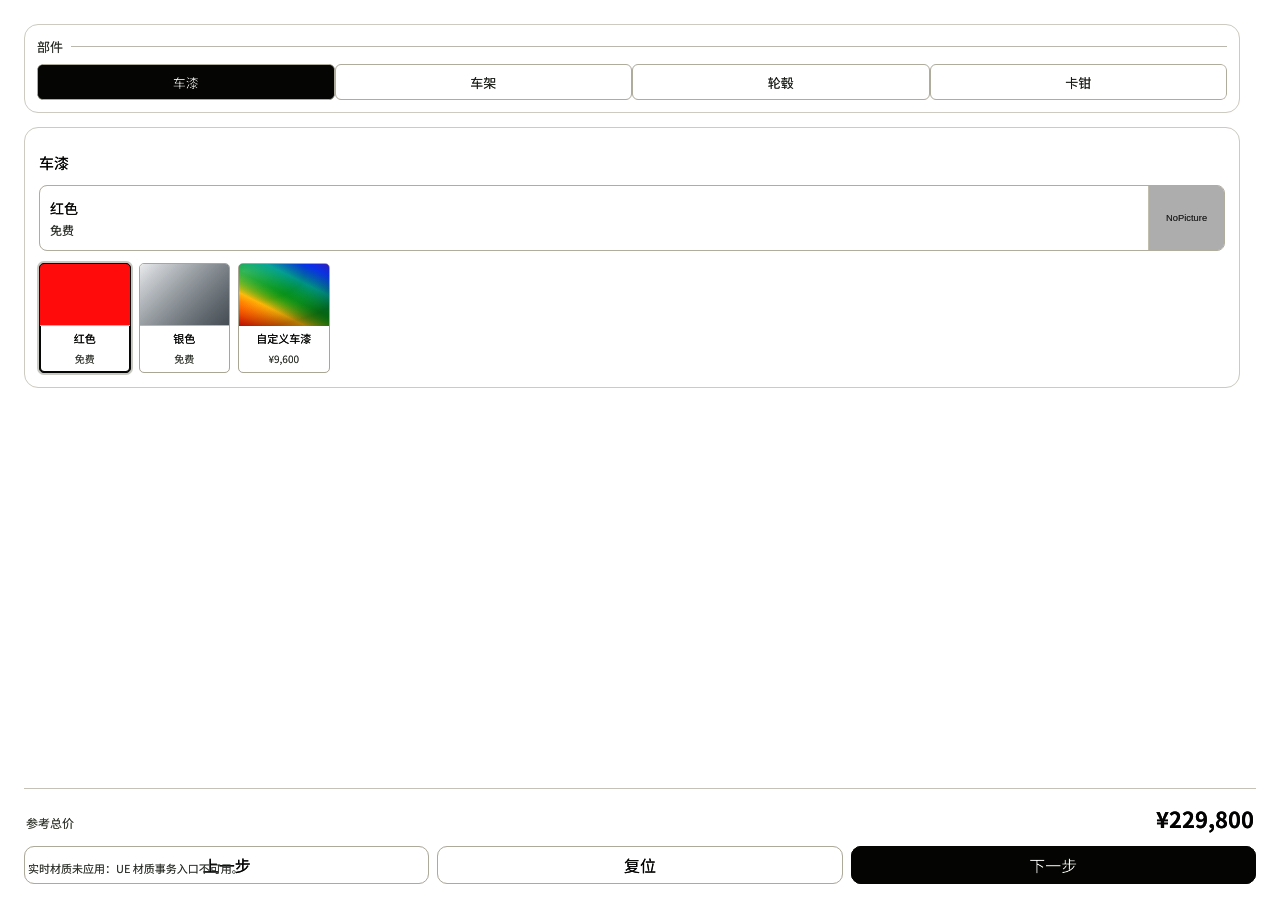
Test: App v2 › embedded 上下步不回写 category，按子项顺序且每次镜头变化只联动一次
Click the button "下一步": [1053, 865] box [851,846,1256,884]
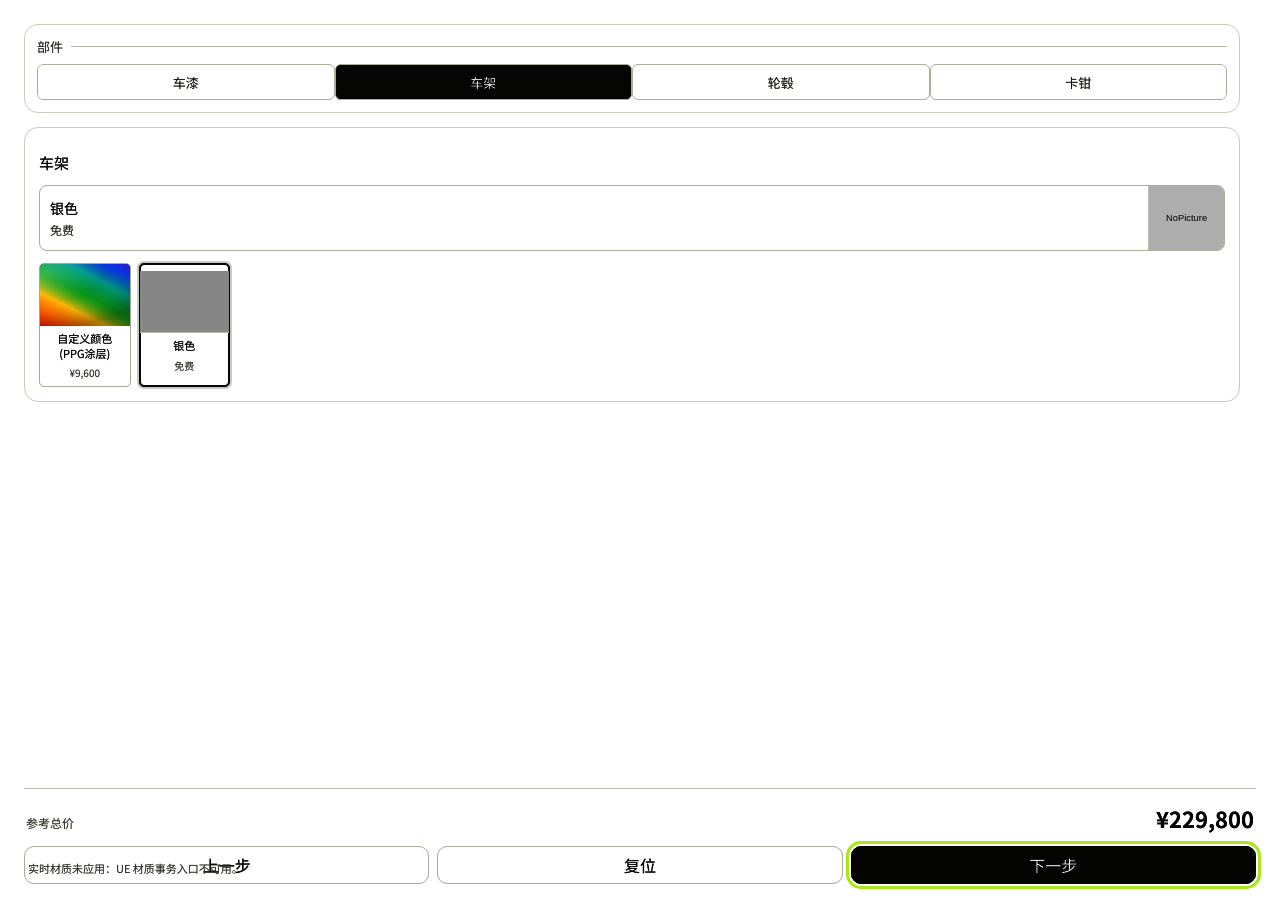
expect the element named "车架配置" is shown: met, box [39,152,1225,387]
Click the button "下一步": [1053, 865] box [851,846,1256,884]
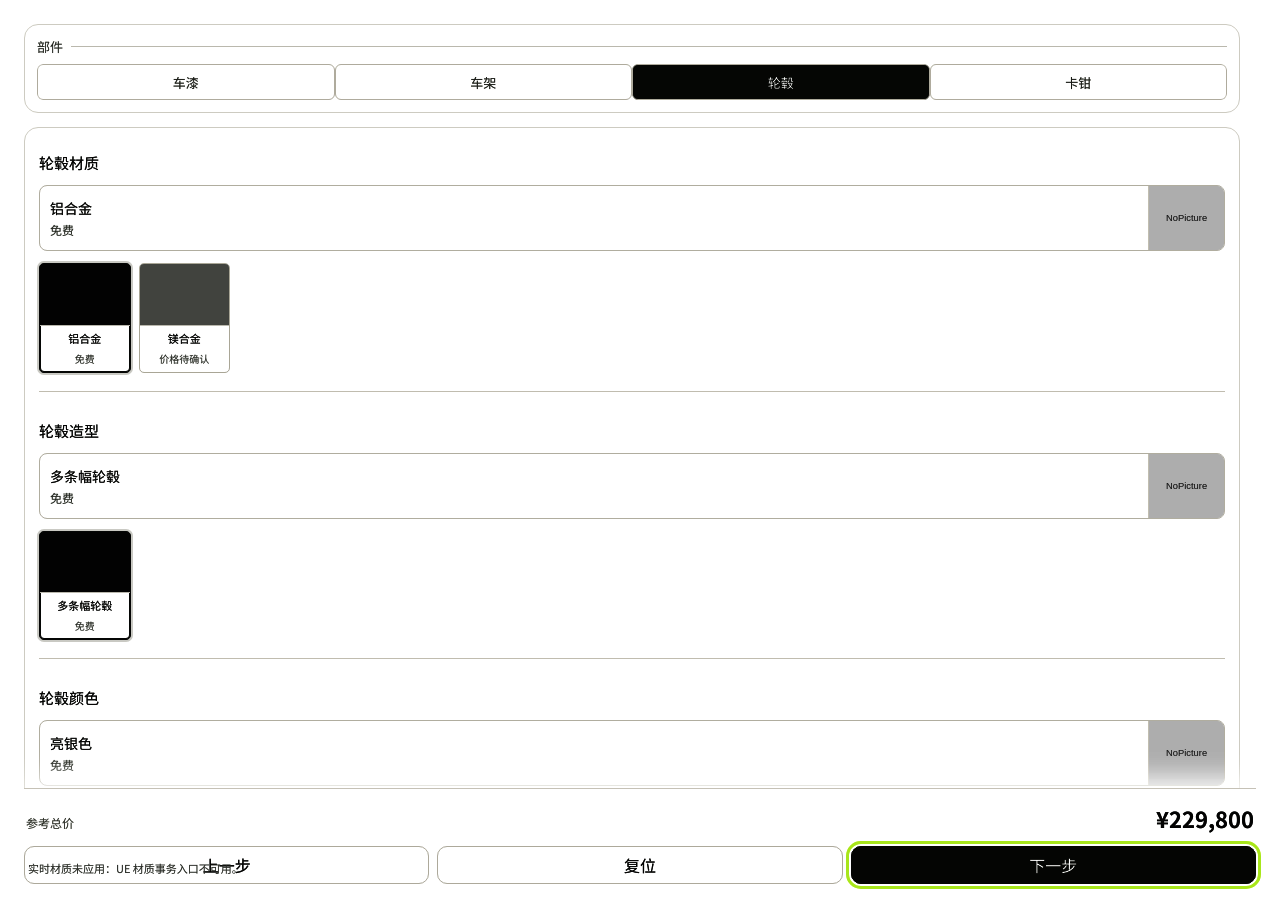
expect the element named "轮毂材质配置" is shown: met, box [39,152,1225,373]
